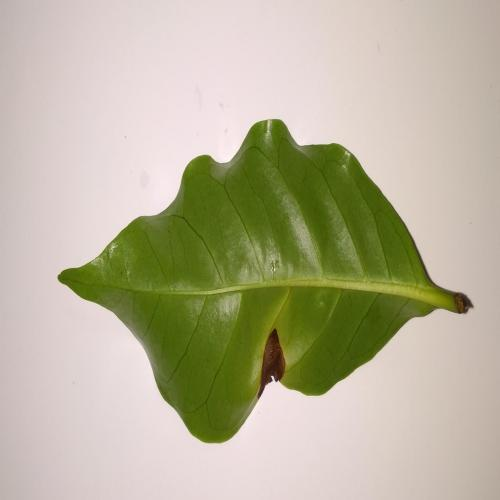miner: (257, 328, 286, 398)
